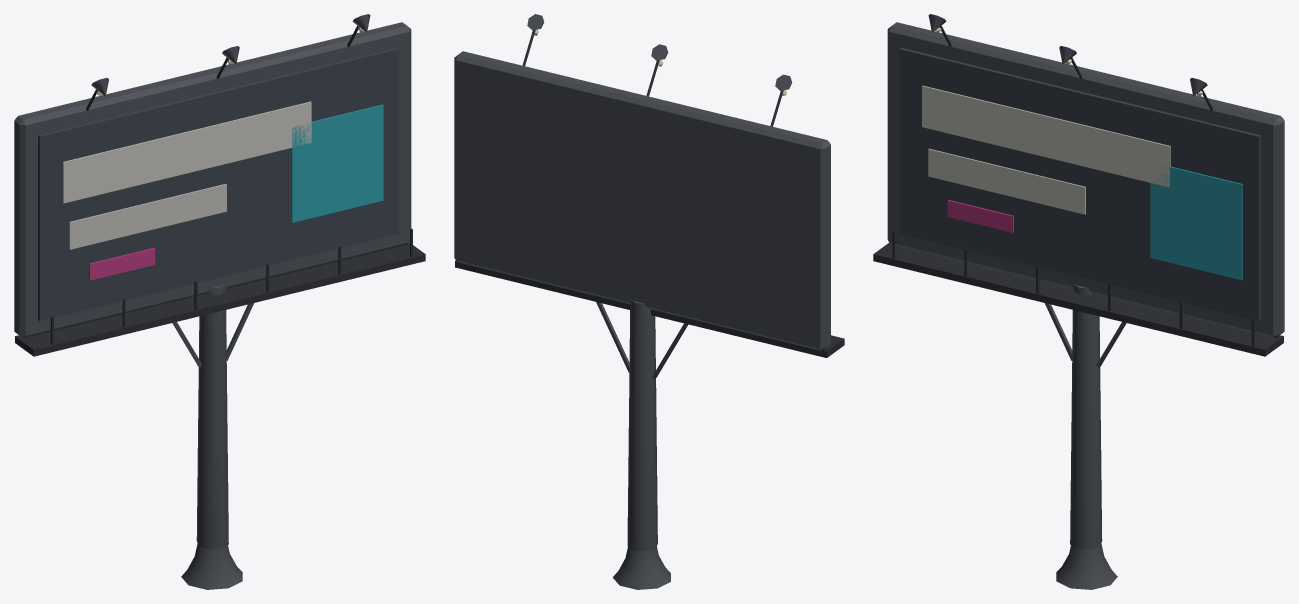
File: giant_billboard_01.glb
3 views of the same model, side by side, from view 1: azimuth 30°, elevation 25°; view 2: azimuth 150°, elevation 25°; view 3: azimuth 330°, elevation 25° (orthographic). The views are drawn at different scales.
Parts seen in each view (by area): view 1: giant_billboard_01; view 2: giant_billboard_01; view 3: giant_billboard_01.
Boxes of the visible parts, x1,y1,x2,y2 form: giant_billboard_01: [14, 14, 425, 589]; giant_billboard_01: [454, 14, 844, 589]; giant_billboard_01: [873, 14, 1284, 589].
Bounding box in the file's own units: 6 × 7.98 × 1.02.
